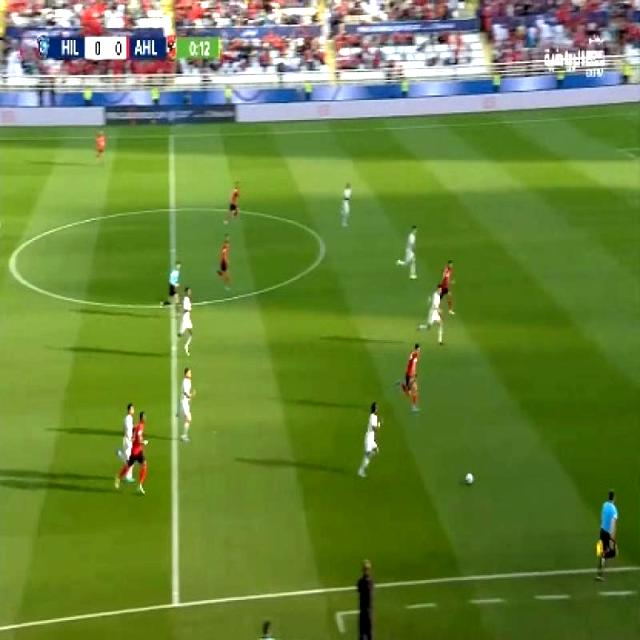bigarea_top_inner: (615, 138, 635, 160)
halfcircle_top: (160, 195, 185, 222)
midline_bottom_intersection: (162, 582, 188, 616)
midline_top_intersection: (164, 124, 178, 146)
